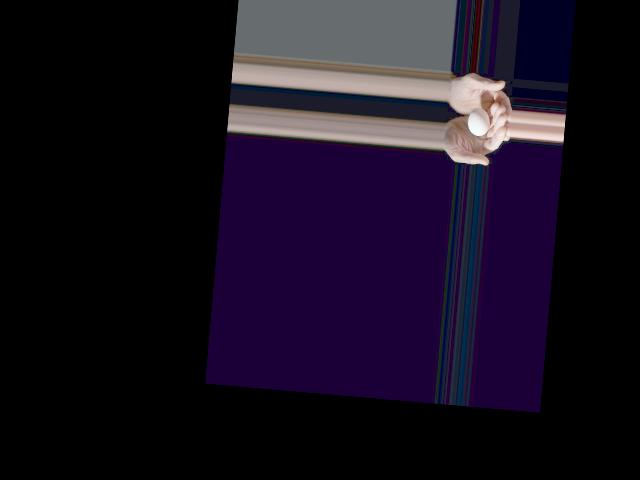egg: (466, 107, 491, 137)
